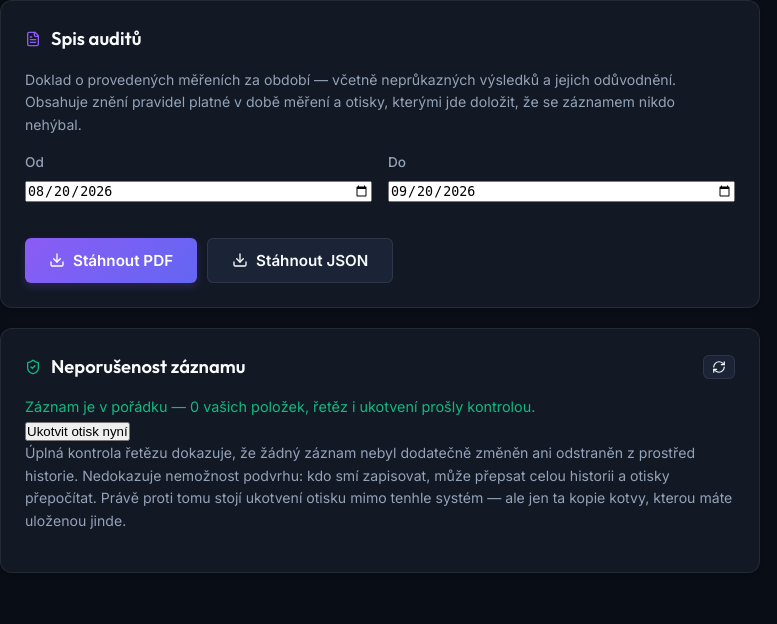
Test: export spisu › selhání exportu se ukáže uživateli
This screenshot has width=777, height=624.
Check: the text "Záznam je v pořádku — 0 vašich položek, řetěz i ukotvení prošly kontrolou." is shown, box [25,398,535,416]
Click the button "Stáhnout JSON" at x=300, y=260, box [207,238,393,283]
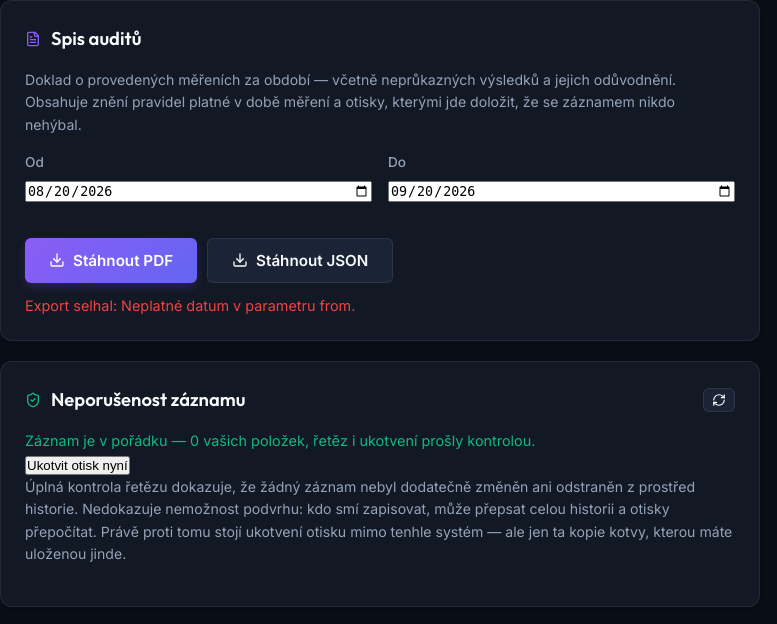
Check: the text "Export selhal: Neplatné datum v parametru from." is shown, box [25,297,355,314]
